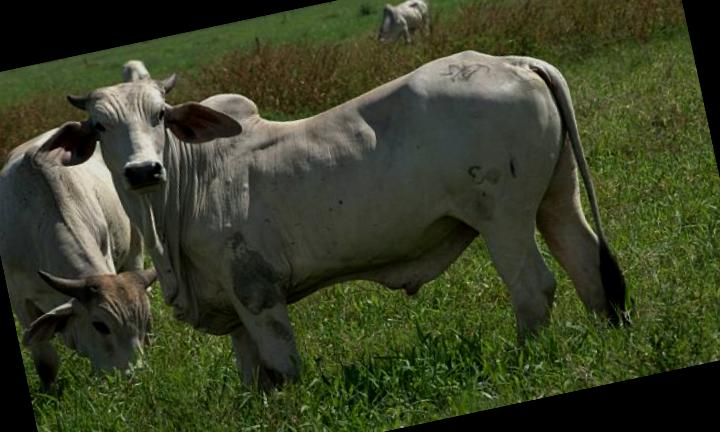Brahman: (37, 50, 626, 386)
